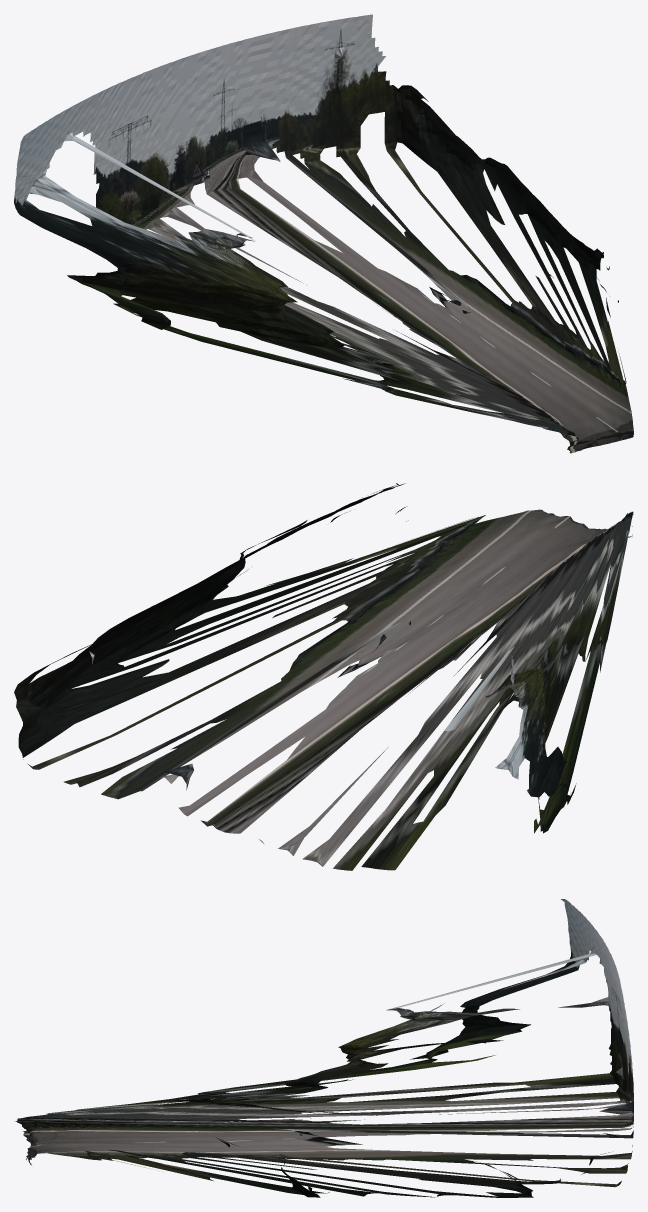
3 views of the same model, one above another, from view 1: azimuth 30°, elevation 25°; view 2: azimuth 150°, elevation 25°; view 3: azimuth 270°, elevation 25° (orthographic). The views are drawn at different scales.
Visible parts, largest first — view 1: defaultobject; view 2: defaultobject; view 3: defaultobject.
Boxes of the visible parts, left/top/right/bottom form: defaultobject: left=14, top=14, right=633, bottom=453; defaultobject: left=14, top=483, right=633, bottom=870; defaultobject: left=14, top=899, right=633, bottom=1197.
Size of the model in its own units: 33.52 by 11.73 by 45.16.
Materials: 1 (1 with a texture image).
